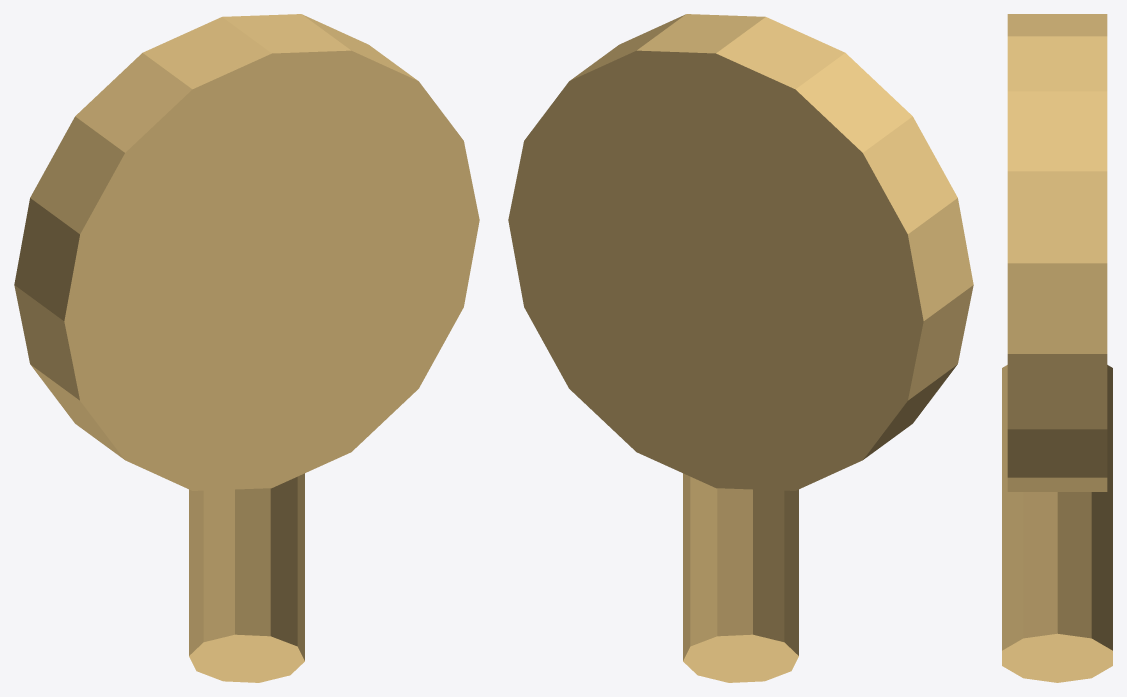
The model's file is pressure_dial.glb.
The picture shows the model from 3 angles, left to right: view 1: azimuth 30°, elevation 25°; view 2: azimuth 150°, elevation 25°; view 3: azimuth 270°, elevation 25°; orthographic projection.
Visible parts, largest first — view 1: BrassBody; view 2: BrassBody; view 3: BrassBody.
Part boxes in pixels (x1=…): BrassBody: x1=14, y1=14, x2=479, y2=682; BrassBody: x1=508, y1=14, x2=973, y2=682; BrassBody: x1=1002, y1=14, x2=1112, y2=682.
Size of the model in its own units: 0.23 by 0.33 by 0.0533.
